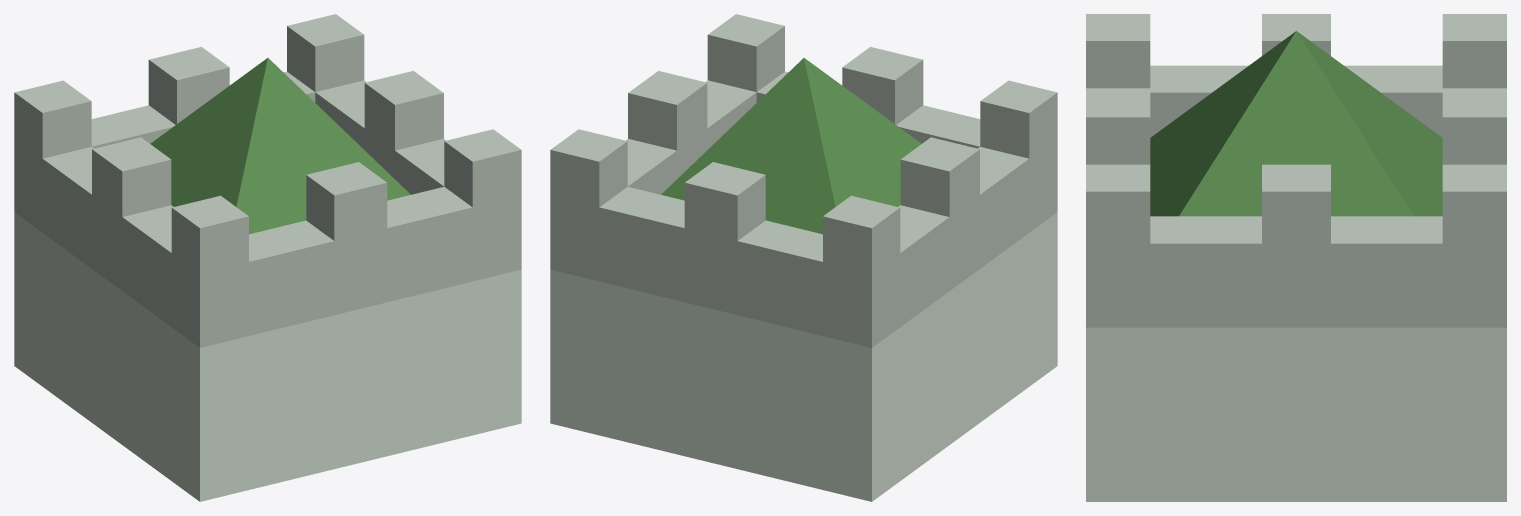
File: towerDefense_030.obj
3 renders of one model, left to right at view 1: azimuth 30°, elevation 25°; view 2: azimuth 150°, elevation 25°; view 3: azimuth 270°, elevation 25°, orthographic. The views are drawn at different scales.
Visible parts, largest first — view 1: Mesh2 Group1 Model, Mesh1 Group2 Group1 Model; view 2: Mesh2 Group1 Model, Mesh1 Group2 Group1 Model; view 3: Mesh2 Group1 Model, Mesh1 Group2 Group1 Model.
Boxes of the visible parts, bbox=[...] form: Mesh2 Group1 Model: bbox=[14, 14, 521, 501]; Mesh1 Group2 Group1 Model: bbox=[150, 58, 410, 234]; Mesh2 Group1 Model: bbox=[550, 14, 1057, 501]; Mesh1 Group2 Group1 Model: bbox=[661, 58, 921, 234]; Mesh2 Group1 Model: bbox=[1086, 14, 1506, 501]; Mesh1 Group2 Group1 Model: bbox=[1150, 31, 1442, 216].
Size of the model in its own units: 0.5901 by 0.5914 by 0.5901.
